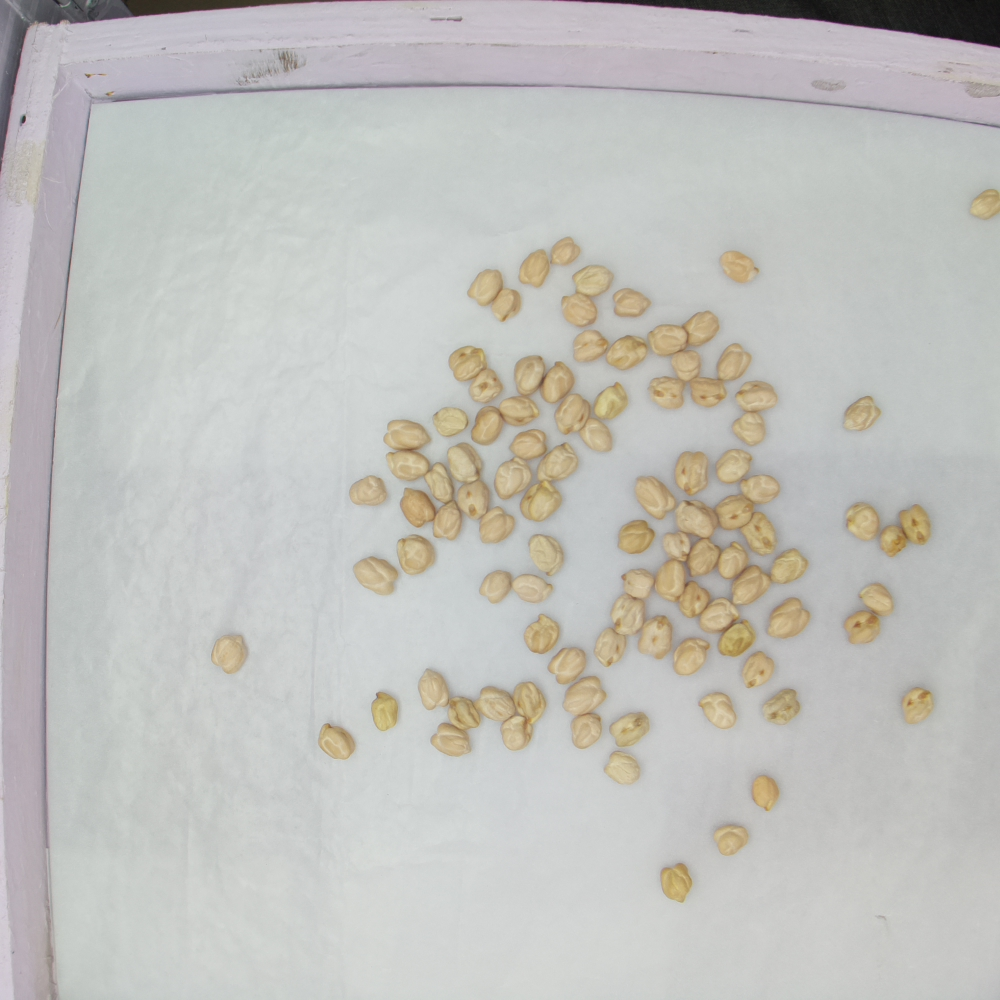chana: (636, 477, 679, 518), (537, 443, 579, 484), (768, 598, 809, 639), (397, 534, 437, 576), (354, 558, 397, 596), (494, 457, 532, 500), (740, 512, 777, 556), (565, 676, 606, 715), (716, 619, 757, 658), (521, 481, 562, 520), (211, 636, 250, 677), (677, 499, 717, 538), (732, 565, 770, 606), (699, 691, 738, 730), (540, 362, 577, 403), (760, 688, 802, 724), (400, 487, 437, 527), (524, 613, 560, 654), (610, 594, 646, 635), (639, 616, 673, 659), (384, 419, 431, 450), (547, 647, 586, 684), (446, 443, 482, 483), (386, 451, 433, 481), (673, 638, 710, 676), (610, 712, 650, 747), (770, 549, 810, 584), (716, 495, 756, 530), (555, 394, 590, 434), (474, 687, 515, 721), (606, 336, 648, 369), (677, 452, 709, 495), (468, 269, 505, 306), (701, 597, 740, 632), (513, 682, 546, 723), (530, 535, 563, 576), (418, 668, 450, 710), (319, 723, 356, 759), (844, 395, 880, 432), (594, 382, 629, 420), (449, 345, 487, 380), (480, 506, 515, 544), (688, 538, 722, 577), (456, 479, 490, 518), (661, 863, 693, 904), (899, 505, 930, 547), (736, 381, 778, 412), (577, 415, 613, 451), (718, 343, 753, 380), (515, 355, 545, 398), (678, 581, 711, 620), (649, 325, 688, 358), (432, 724, 472, 756), (498, 395, 540, 425), (742, 651, 776, 688), (509, 429, 548, 461), (512, 574, 553, 604), (572, 265, 613, 295), (686, 310, 721, 345), (649, 376, 686, 409), (721, 251, 759, 283), (520, 248, 551, 287), (655, 561, 685, 601), (469, 367, 503, 402), (425, 462, 454, 503), (500, 715, 533, 751), (717, 449, 753, 482), (594, 628, 626, 665), (472, 406, 502, 445), (741, 474, 781, 503), (732, 410, 766, 444), (447, 697, 482, 730), (605, 751, 640, 784), (619, 520, 655, 552), (847, 503, 879, 539), (613, 288, 652, 317), (714, 824, 748, 857), (846, 611, 880, 644), (479, 571, 514, 603), (571, 713, 602, 749), (351, 475, 388, 505), (371, 693, 399, 732), (718, 542, 749, 577), (561, 295, 597, 325), (435, 500, 462, 540), (904, 687, 933, 724), (432, 408, 469, 437), (860, 584, 893, 616), (573, 330, 608, 360), (691, 379, 728, 407), (493, 287, 522, 322), (753, 775, 780, 812), (622, 569, 655, 599), (661, 532, 694, 562), (673, 350, 701, 383), (550, 236, 581, 265), (972, 189, 1000, 220), (882, 525, 905, 557)
